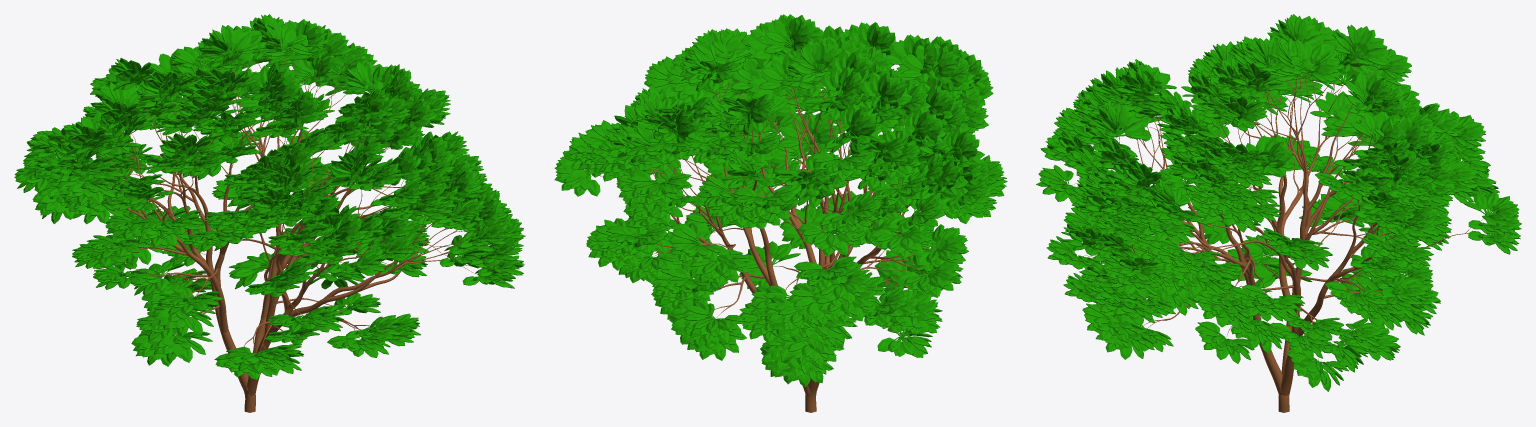
File: tree1.fbx
3 renders of one model, left to right at view 1: azimuth 30°, elevation 25°; view 2: azimuth 150°, elevation 25°; view 3: azimuth 270°, elevation 25°, orthographic.
Parts seen in each view (by area): view 1: tree, leaves|Circle.004|Dupli|167, leaves|Circle.004|Dupli|1271, leaves|Circle.004|Dupli|822; view 2: tree, leaves|Circle.004|Dupli|813, leaves|Circle.004|Dupli|969, leaves|Circle.004|Dupli|1058, leaves|Circle.004|Dupli|10, leaves|Circle.004|Dupli|676, leaves|Circle.004|Dupli|1333, leaves|Circle.004|Dupli|575, leaves|Circle.004|Dupli|155, leaves|Circle.004|Dupli|289, leaves|Circle.004|Dupli|275, leaves|Circle.004|Dupli|748 (+5 smaller); view 3: tree, leaves|Circle.004|Dupli|811, leaves|Circle.004|Dupli|102, leaves|Circle.004|Dupli|821.
Part boxes in pixels (x1,y1,x2,y2): tree: [75, 52, 486, 412]; leaves|Circle.004|Dupli|167: [158, 308, 202, 335]; leaves|Circle.004|Dupli|1271: [212, 25, 254, 56]; leaves|Circle.004|Dupli|822: [329, 152, 365, 185]; tree: [590, 49, 939, 412]; leaves|Circle.004|Dupli|813: [846, 104, 880, 143]; leaves|Circle.004|Dupli|969: [773, 91, 805, 127]; leaves|Circle.004|Dupli|1058: [950, 126, 981, 167]; leaves|Circle.004|Dupli|10: [877, 337, 923, 357]; leaves|Circle.004|Dupli|676: [806, 40, 842, 72]; leaves|Circle.004|Dupli|1333: [869, 72, 911, 102]; leaves|Circle.004|Dupli|575: [869, 229, 909, 260]; leaves|Circle.004|Dupli|155: [682, 300, 715, 337]; leaves|Circle.004|Dupli|289: [770, 137, 800, 173]; leaves|Circle.004|Dupli|275: [896, 272, 940, 297]; leaves|Circle.004|Dupli|748: [912, 107, 944, 146]; tree: [1072, 58, 1482, 412]; leaves|Circle.004|Dupli|811: [1356, 27, 1388, 64]; leaves|Circle.004|Dupli|102: [1297, 355, 1330, 391]; leaves|Circle.004|Dupli|821: [1107, 104, 1144, 139].
Bounding box in the file's own units: 11.24 × 9.51 × 11.77.
